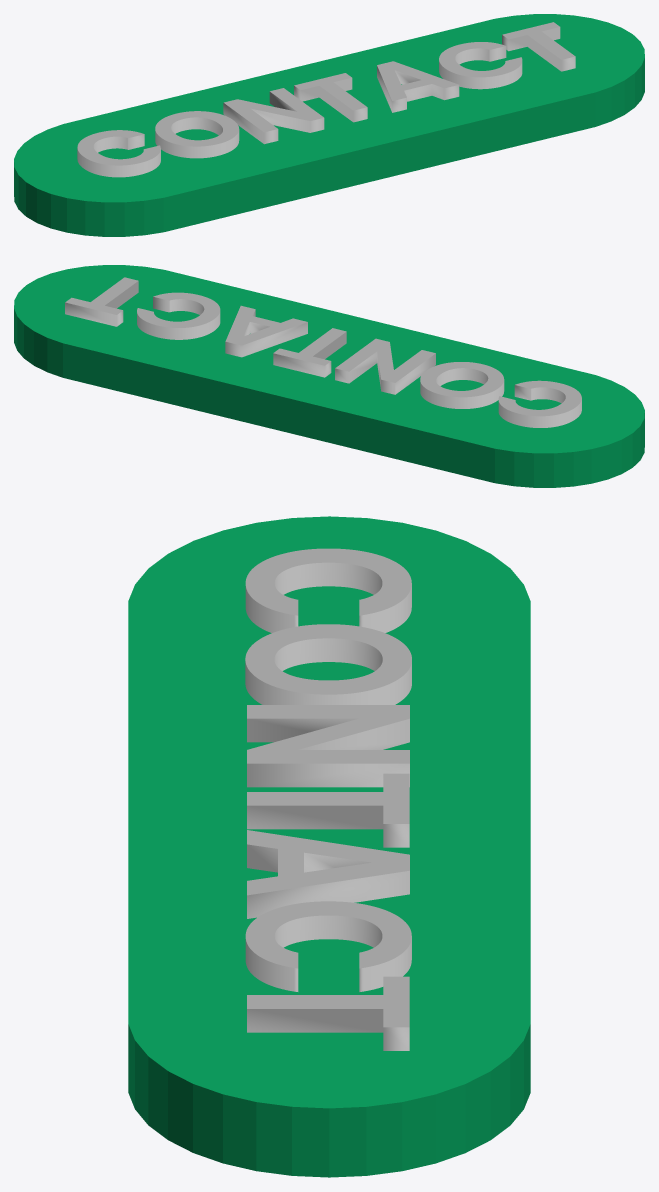
Rendered from contact_button.gltf.
3 views of the same model, one above another, from view 1: azimuth 30°, elevation 25°; view 2: azimuth 150°, elevation 25°; view 3: azimuth 270°, elevation 25° (orthographic). The views are drawn at different scales.
Parts seen in each view (by area): view 1: Circle.001; view 2: Circle.001; view 3: Circle.001.
Part boxes in pixels (<box>): Circle.001: <box>14,14,644,236</box>; Circle.001: <box>14,265,644,487</box>; Circle.001: <box>128,516,530,1177</box>.
Size of the model in its own units: 0.6952 by 0.0508 by 0.1998.
